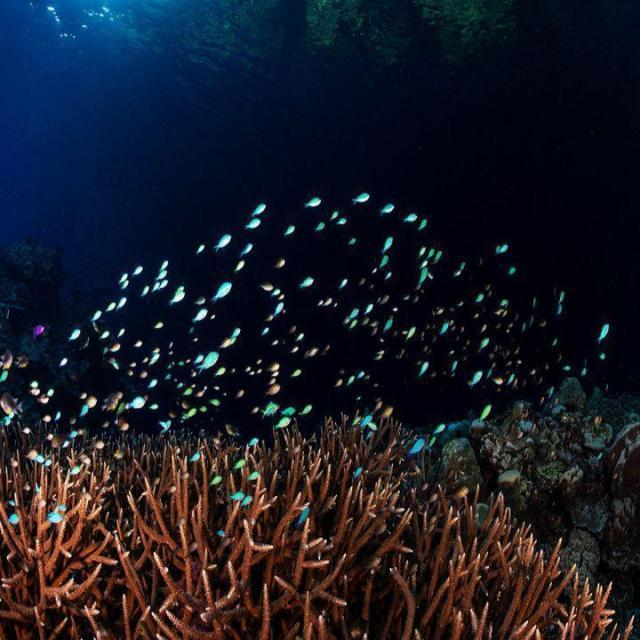Healthy Coral: (7, 421, 637, 633)
